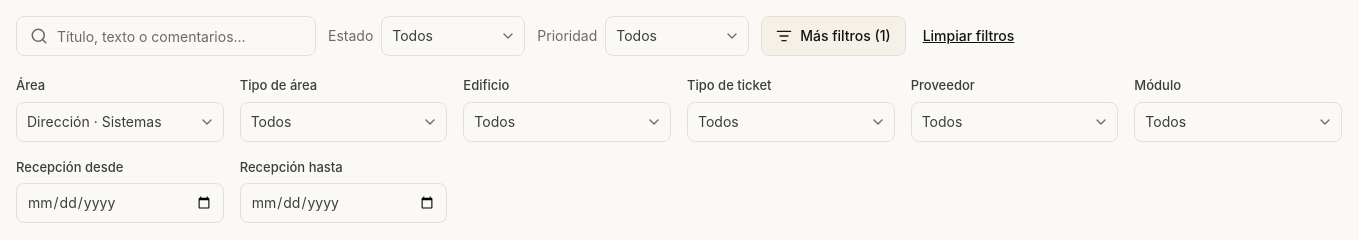
Test: TicketsFilters › «Más filtros» › se puede plegar aunque haya filtros activos, y la cuenta lo sigue mostrando
Click the button "Más filtros (1)".
click(833, 36)  # box 761,16 -> 906,56
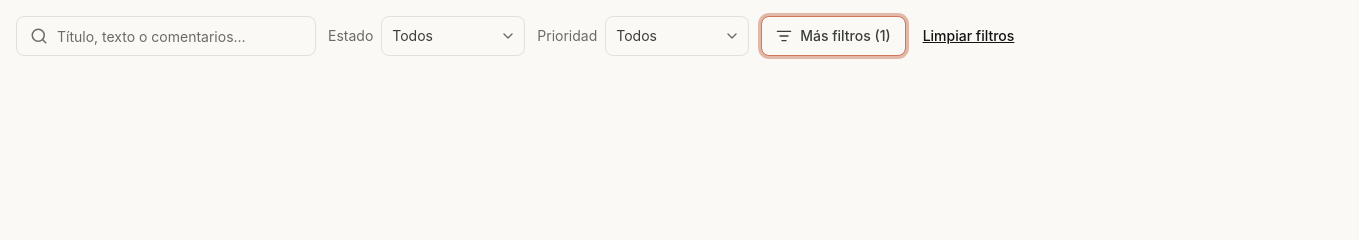
Expected: the button "Más filtros (1)" is collapsed, 761,16 -> 906,56
